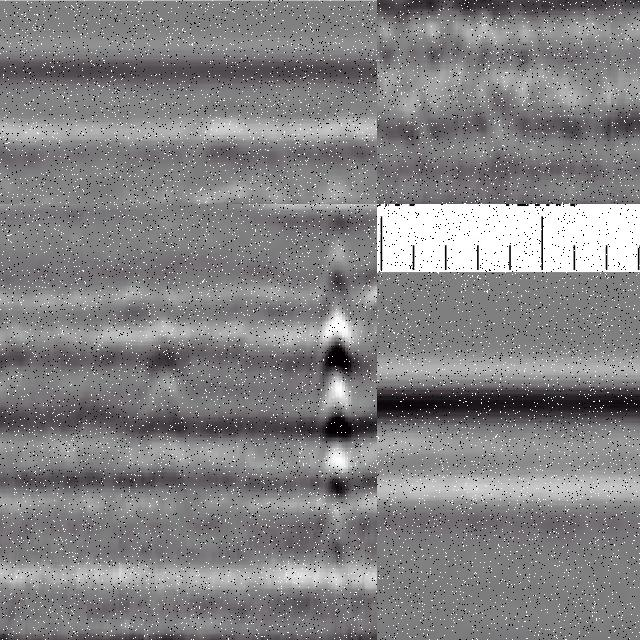crack: (315, 205, 356, 565)
loose: (378, 1, 501, 161)
